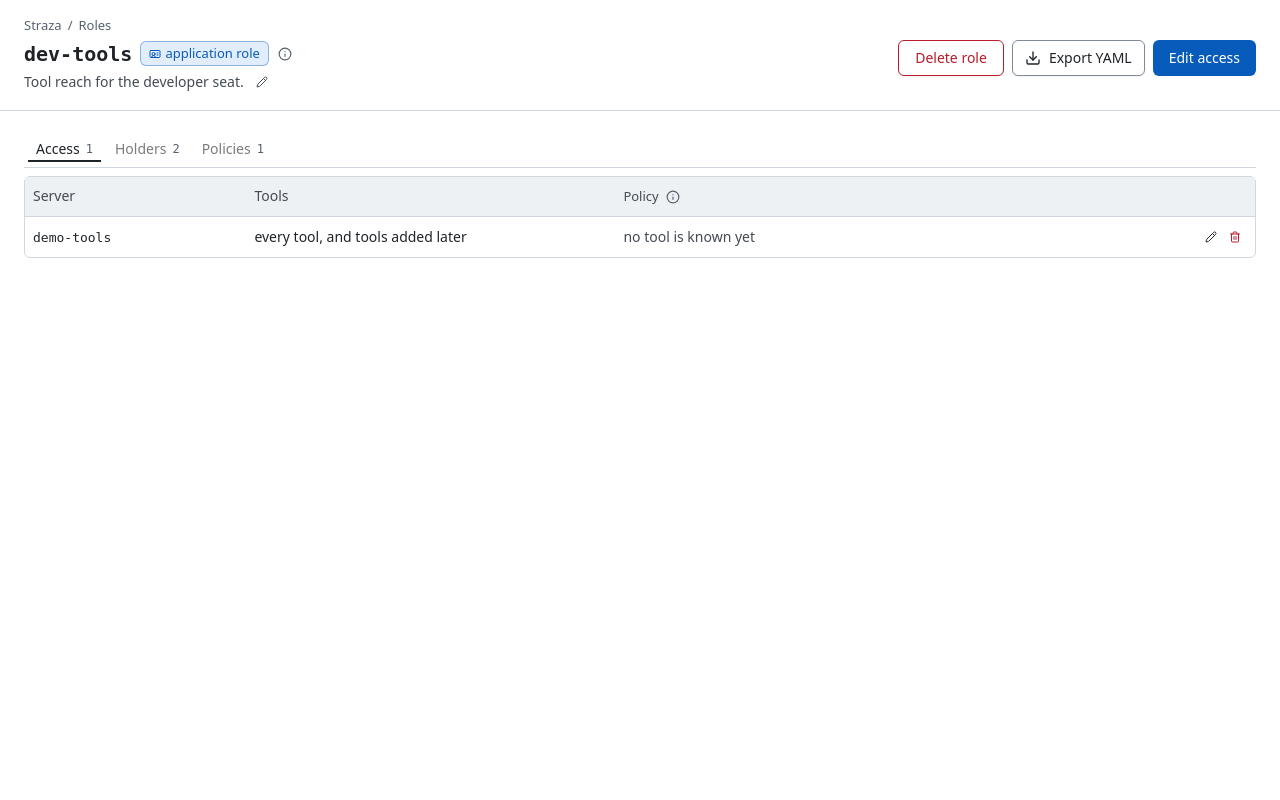
Test: a role's page › publishes the description as the live Role document with that one change
Check: the heading "dev-tools" is shown, box [24,40,132,68]
Click the button named "Change the description".
click(262, 82)  # box [250,70,274,94]
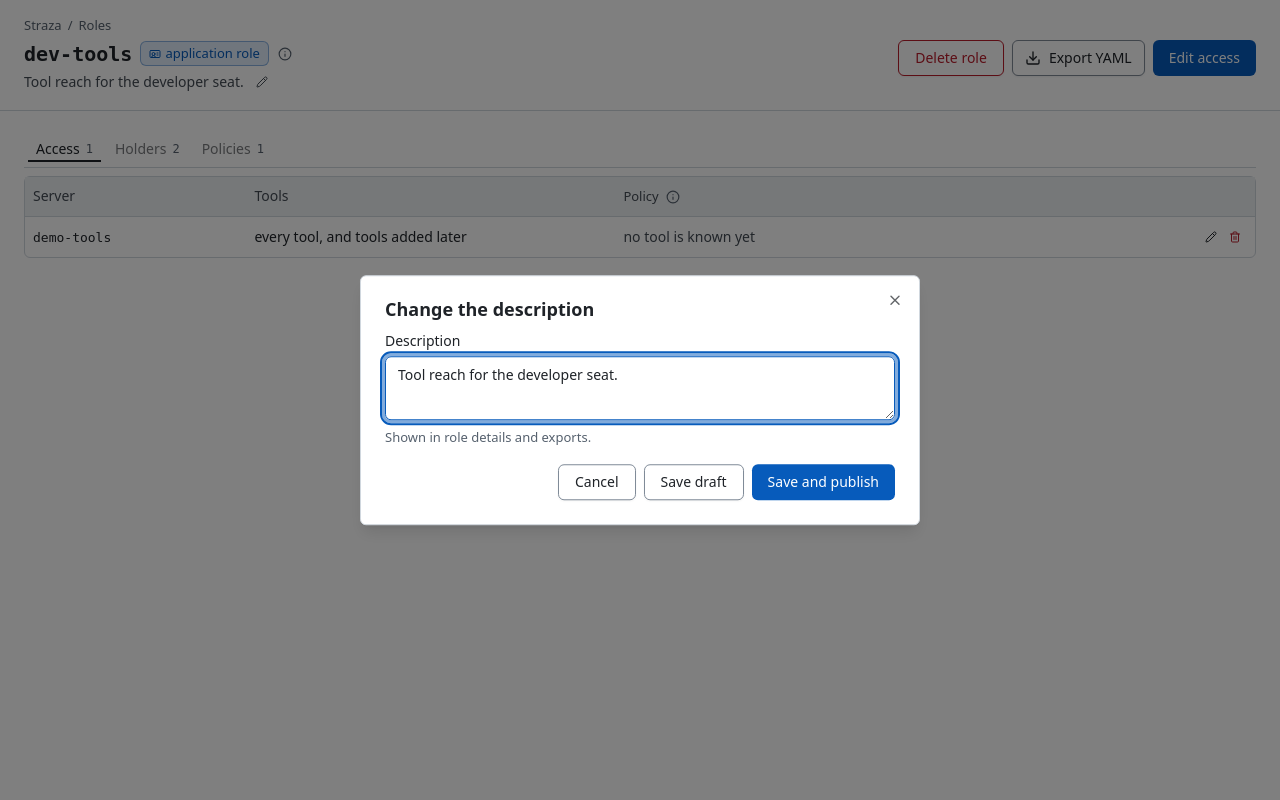
Replace the text in the text box with "Reach for the developer seat." at (640, 388), box [385,356,895,420]
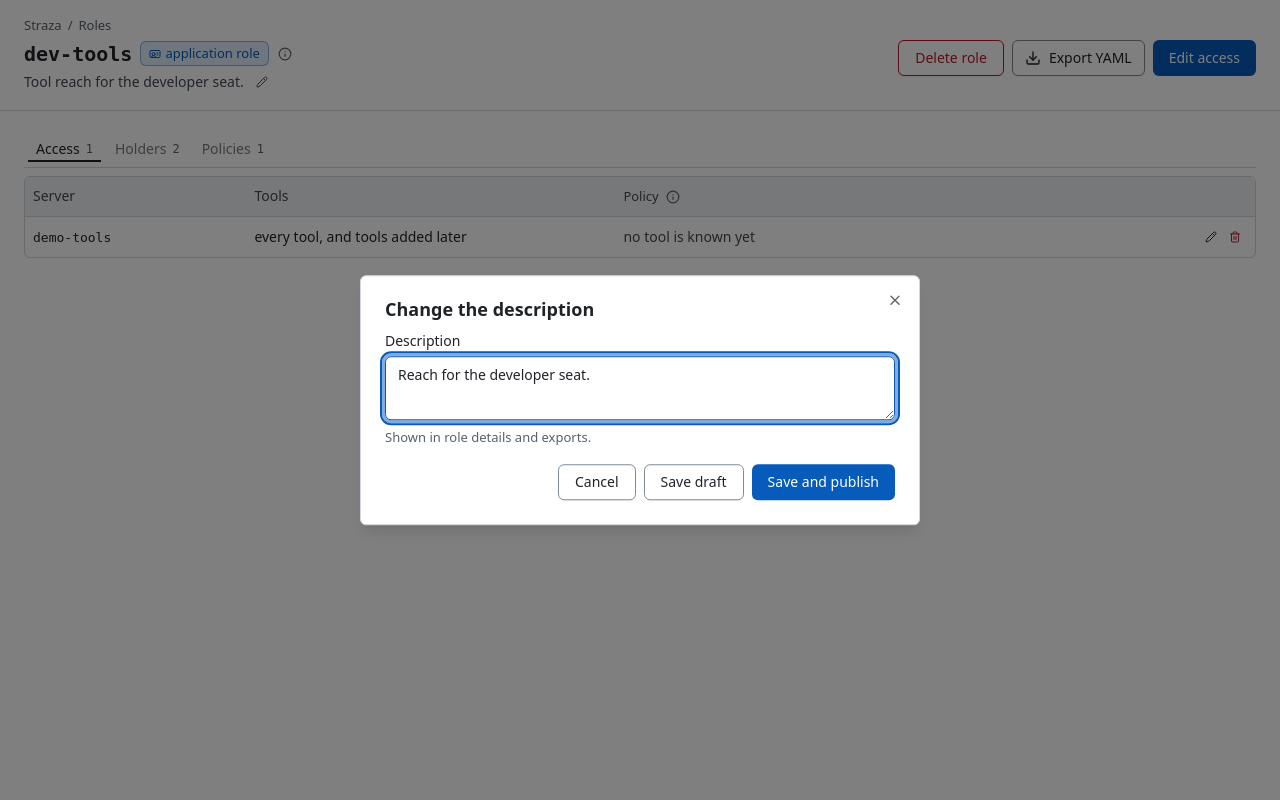
Click the button "Save and publish".
click(823, 482)  # box [752,464,895,500]
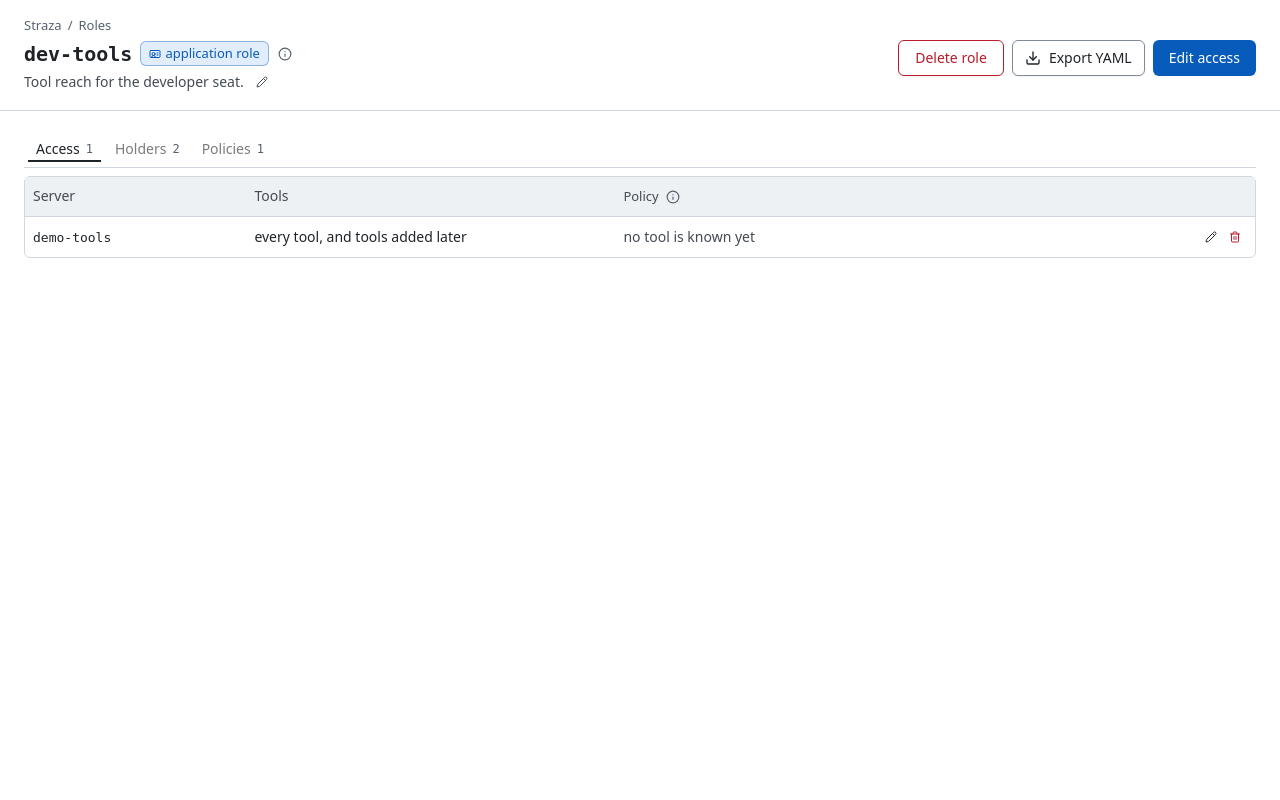
Check: the dialog is gone
